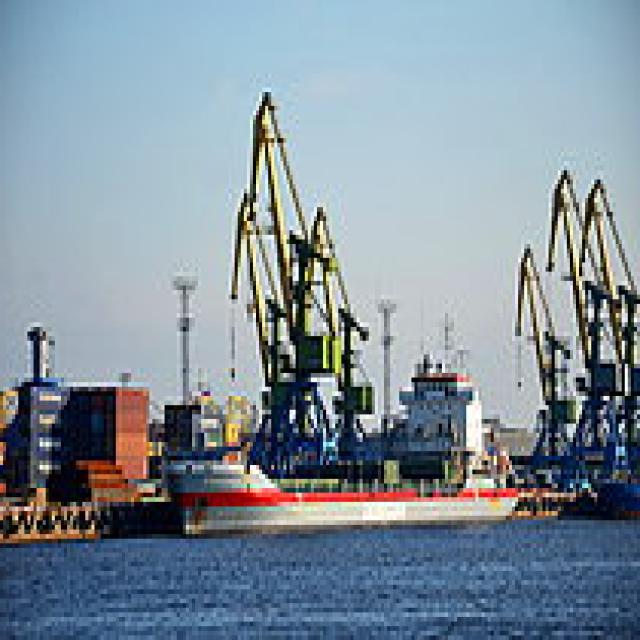Cargo: (171, 309, 527, 534)
